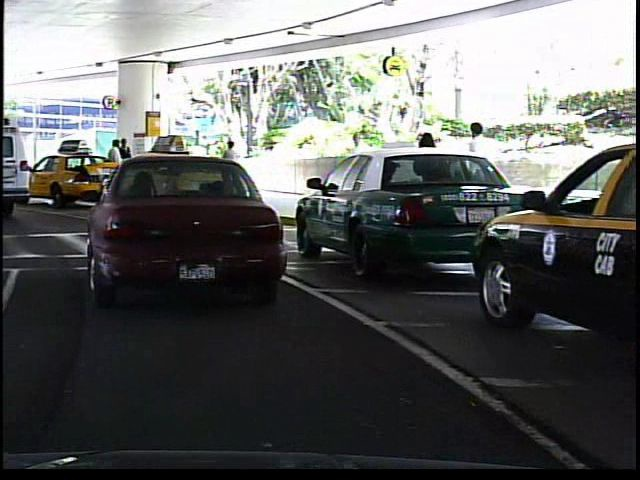person: (457, 114, 504, 230), (408, 122, 448, 229), (341, 124, 371, 204), (219, 137, 242, 191), (104, 138, 123, 192), (118, 134, 134, 191)
